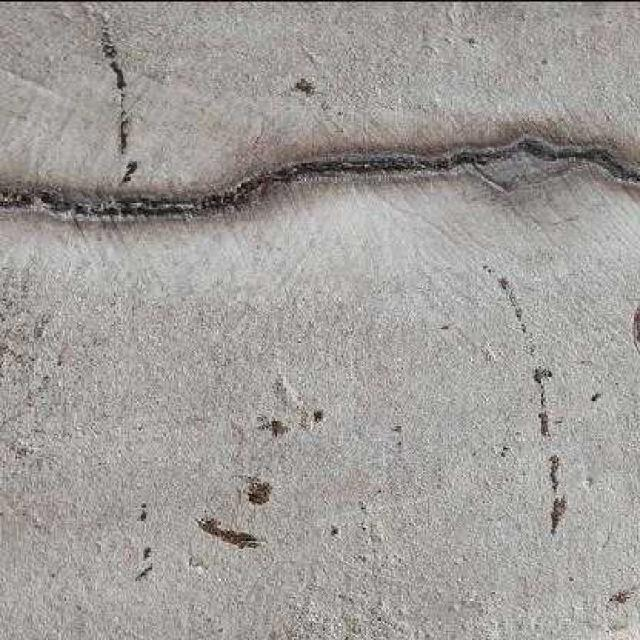D00: (0, 141, 640, 216)
